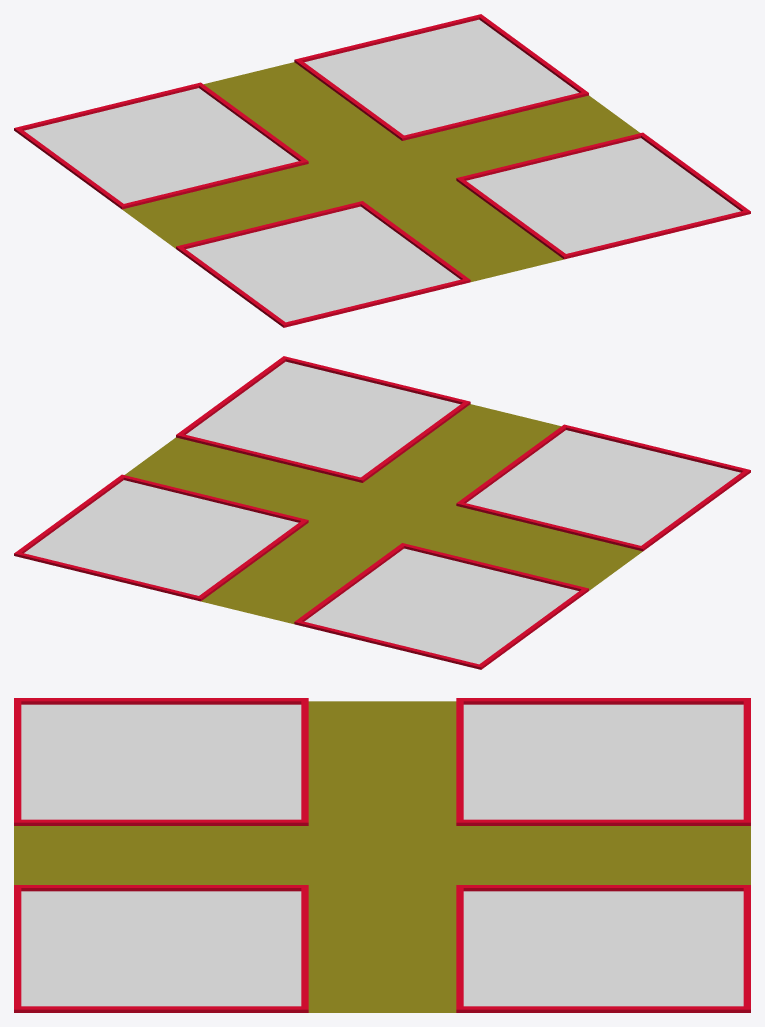
File: Floor.fbx
3 renders of one model, top to bottom at view 1: azimuth 30°, elevation 25°; view 2: azimuth 150°, elevation 25°; view 3: azimuth 270°, elevation 25°, orthographic. The views are drawn at different scales.
Parts seen in each view (by area): view 1: Floor; view 2: Floor; view 3: Floor.
Part boxes in pixels (box(x1,y1,x2,y2)): Floor: box(14, 14, 750, 327); Floor: box(14, 356, 750, 669); Floor: box(14, 698, 750, 1012).
Size of the model in its own units: 5001 by 25 by 5001.
